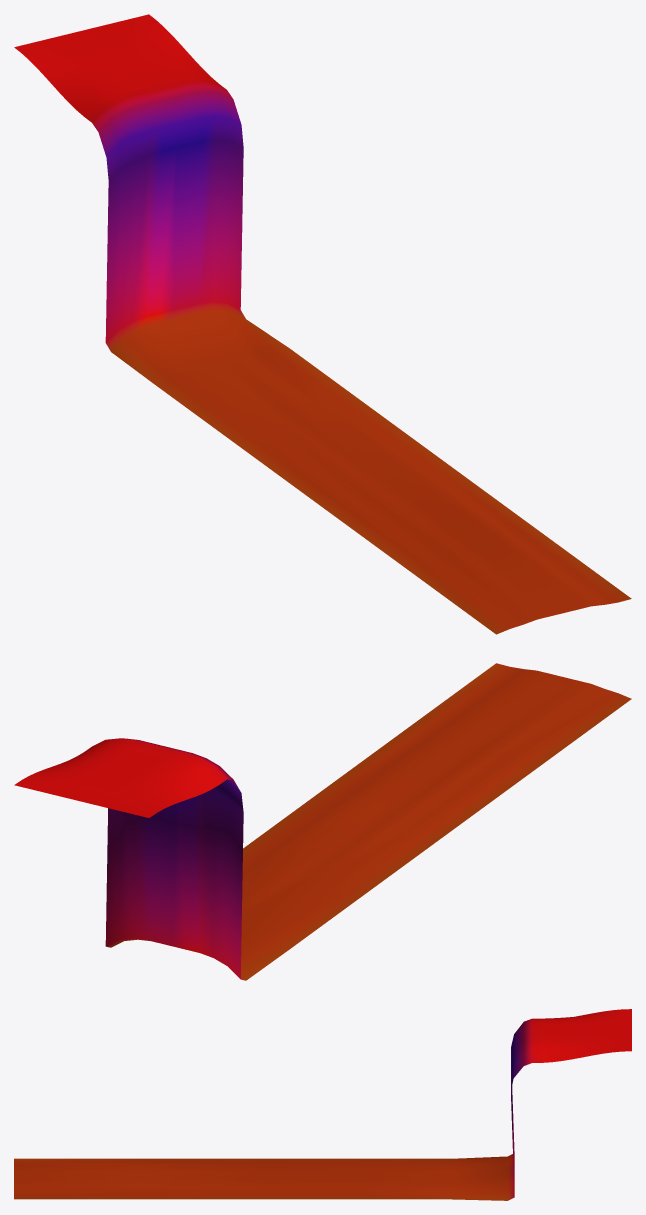
The model's file is MywaterFallBB.fbx.
3 views of the same model, one above another, from view 1: azimuth 30°, elevation 25°; view 2: azimuth 150°, elevation 25°; view 3: azimuth 270°, elevation 25° (orthographic). The views are drawn at different scales.
Visible parts, largest first — view 1: pPlane1; view 2: pPlane1; view 3: pPlane1.
Part boxes in pixels (bbox=[...]): pPlane1: bbox=[14, 14, 631, 634]; pPlane1: bbox=[14, 663, 631, 980]; pPlane1: bbox=[14, 1009, 631, 1200].
Size of the model in its own units: 1 by 1.66 by 6.19.
